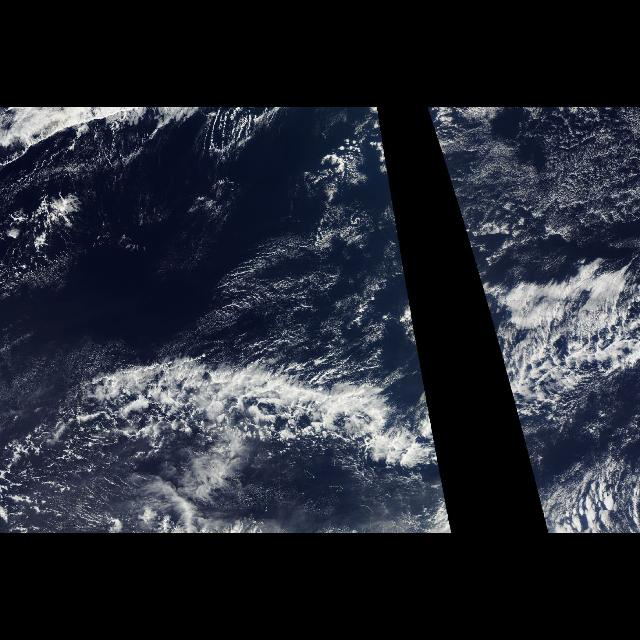Fish: (5, 312, 443, 480), (485, 312, 639, 480)
Sugar: (41, 337, 443, 489), (427, 108, 639, 266)
